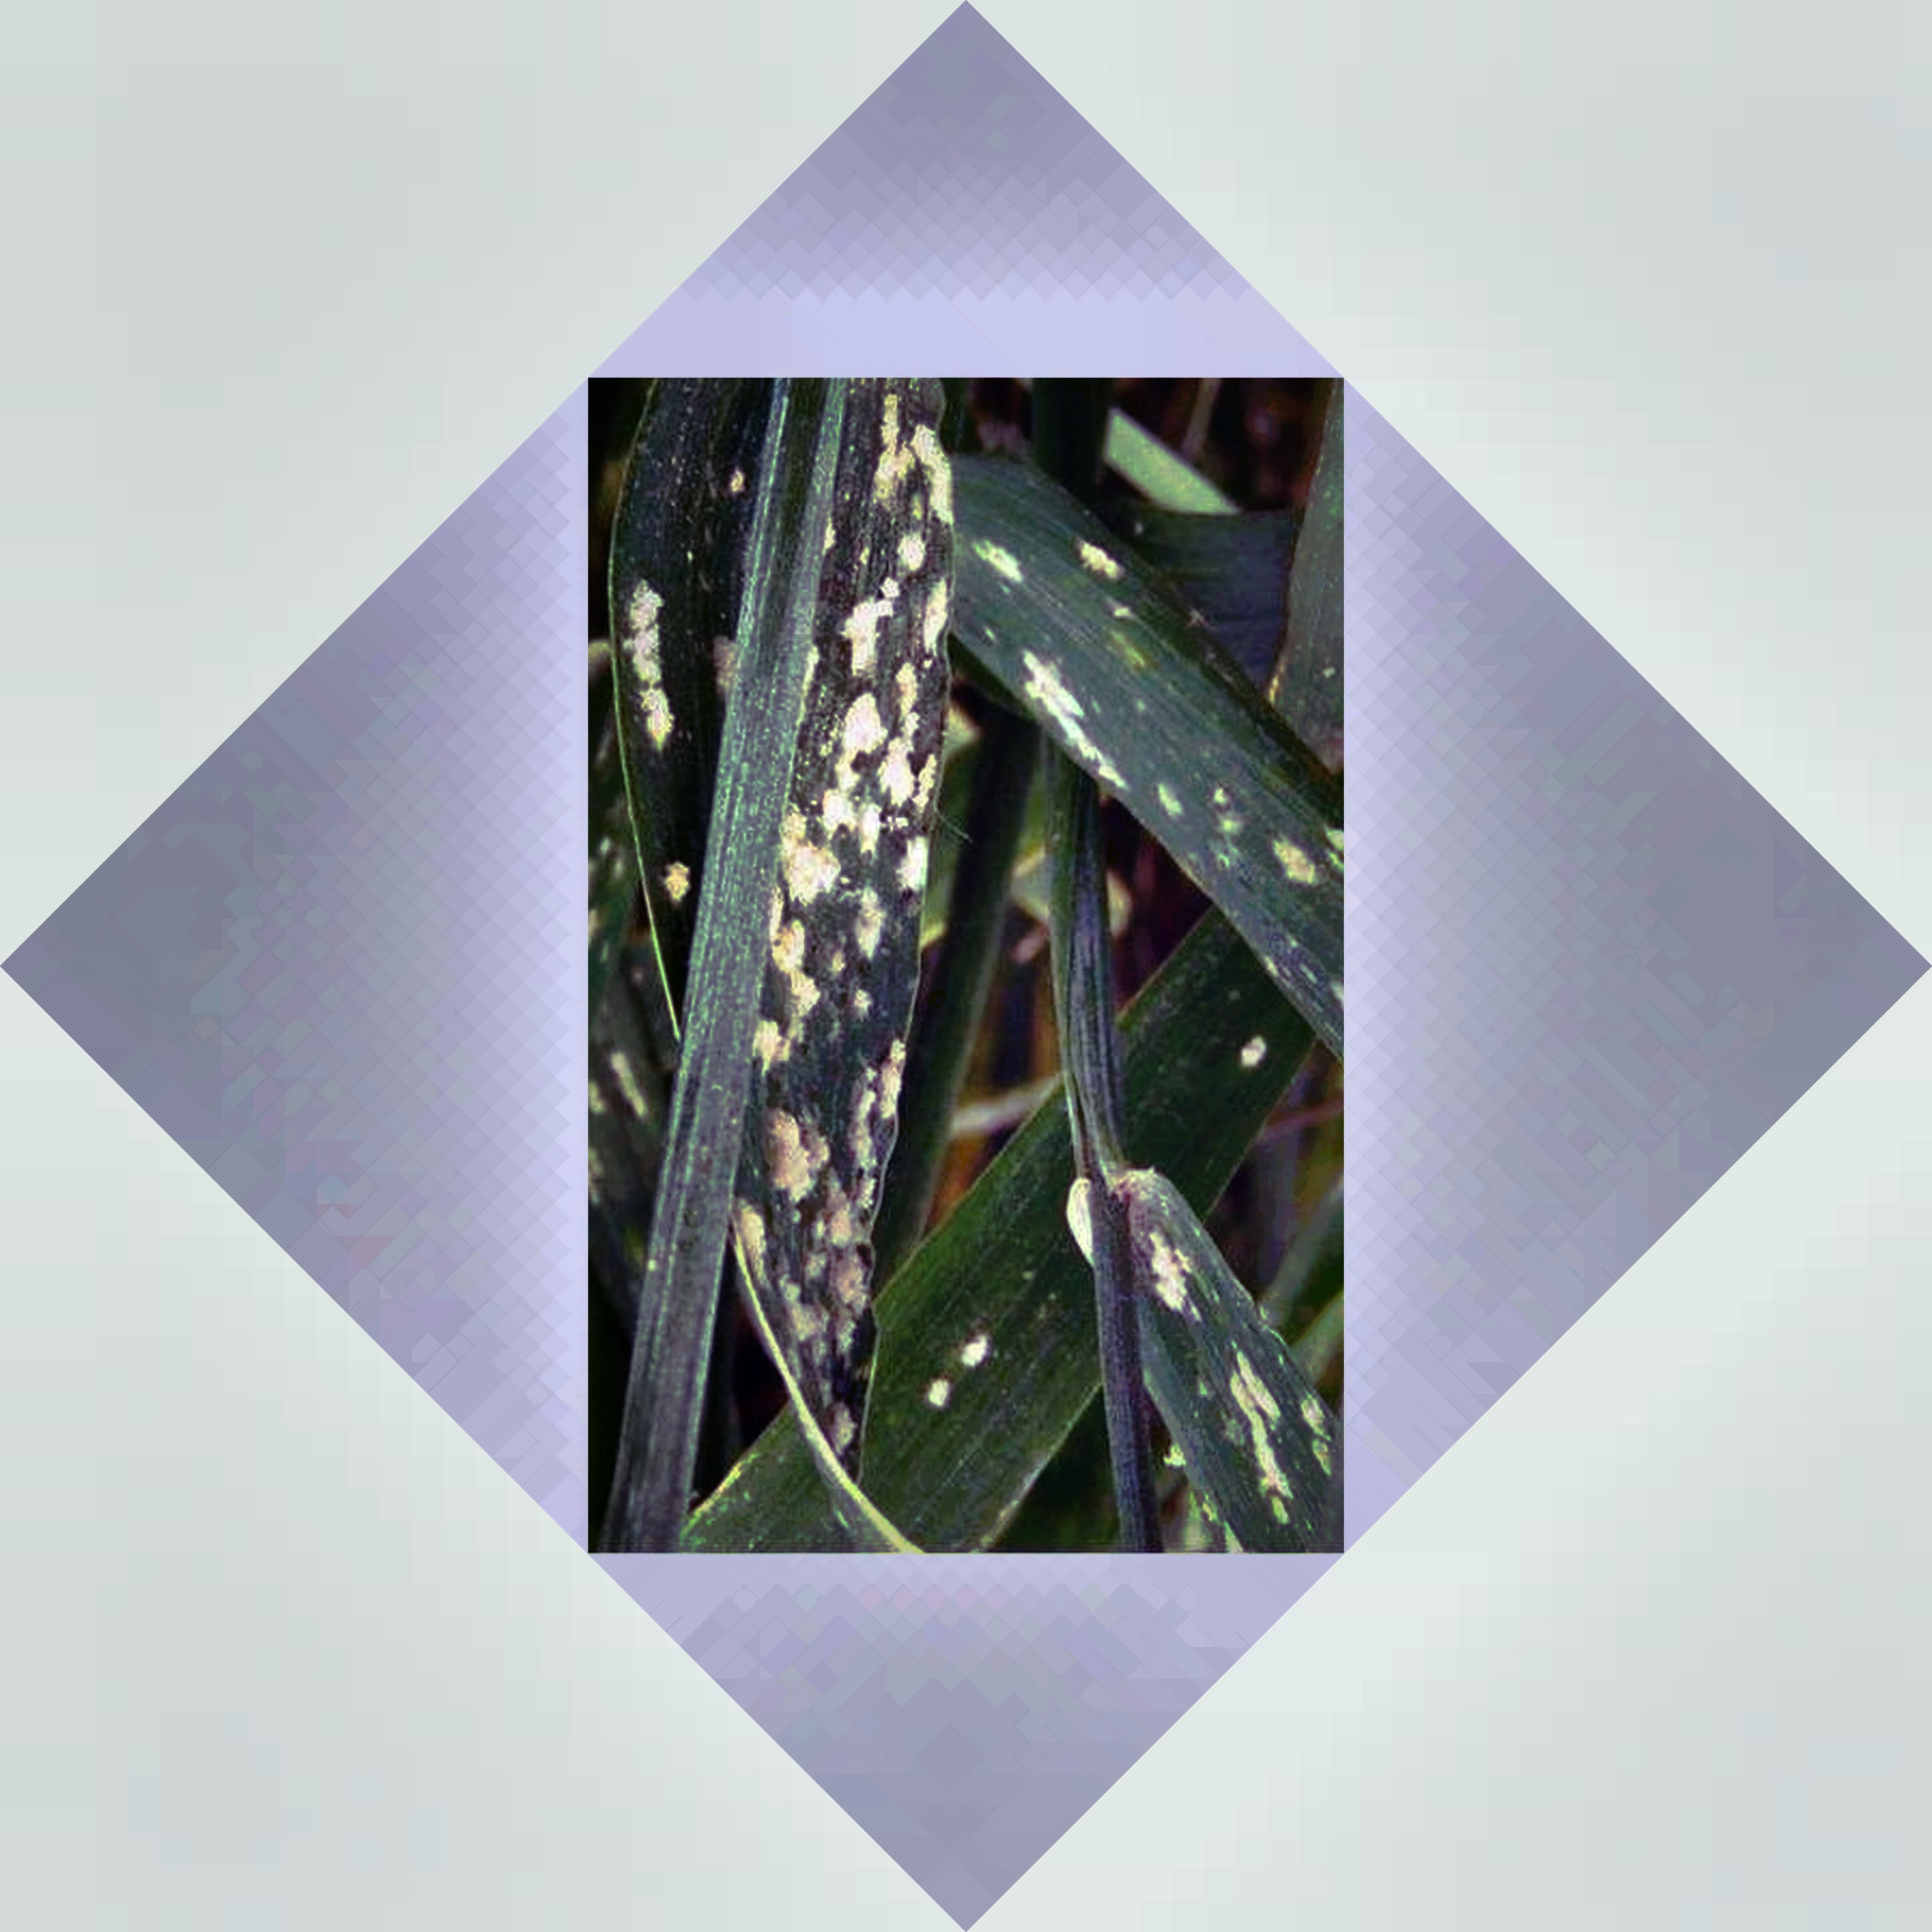Powdery Mildew: (734, 474, 959, 1415)
